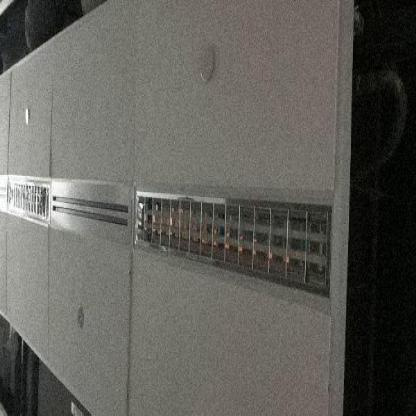light_off: (135, 180, 335, 307), (4, 173, 53, 226)
